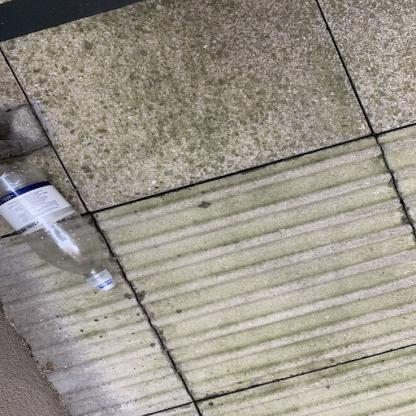trash: (3, 166, 121, 294)
